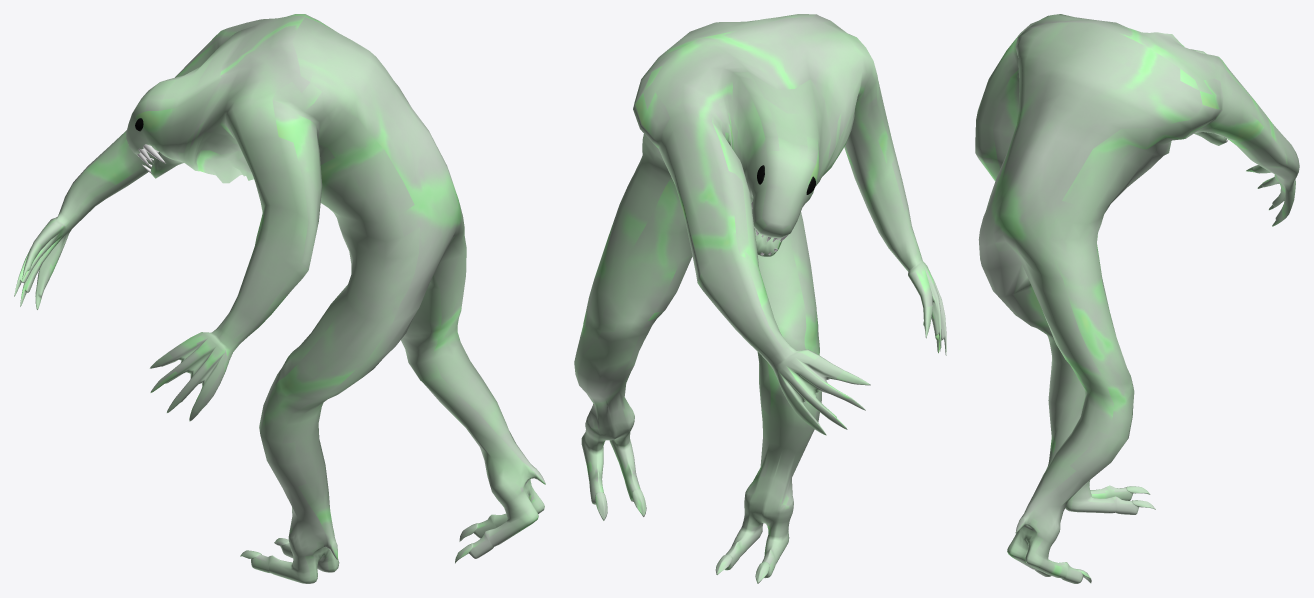
The model's file is Berserkeraranar.0037.obj.
3 views of the same model, side by side, from view 1: azimuth 30°, elevation 25°; view 2: azimuth 150°, elevation 25°; view 3: azimuth 270°, elevation 25° (orthographic). The views are drawn at different scales.
Visible parts, largest first — view 1: polySurface27; view 2: polySurface27; view 3: polySurface27.
Part boxes in pixels (x1=…): polySurface27: x1=14, y1=14, x2=545, y2=583; polySurface27: x1=574, y1=14, x2=946, y2=583; polySurface27: x1=975, y1=14, x2=1299, y2=583.
Size of the model in its own units: 16.2 by 20.69 by 12.41.
Materials: 1 (1 with a texture image).
